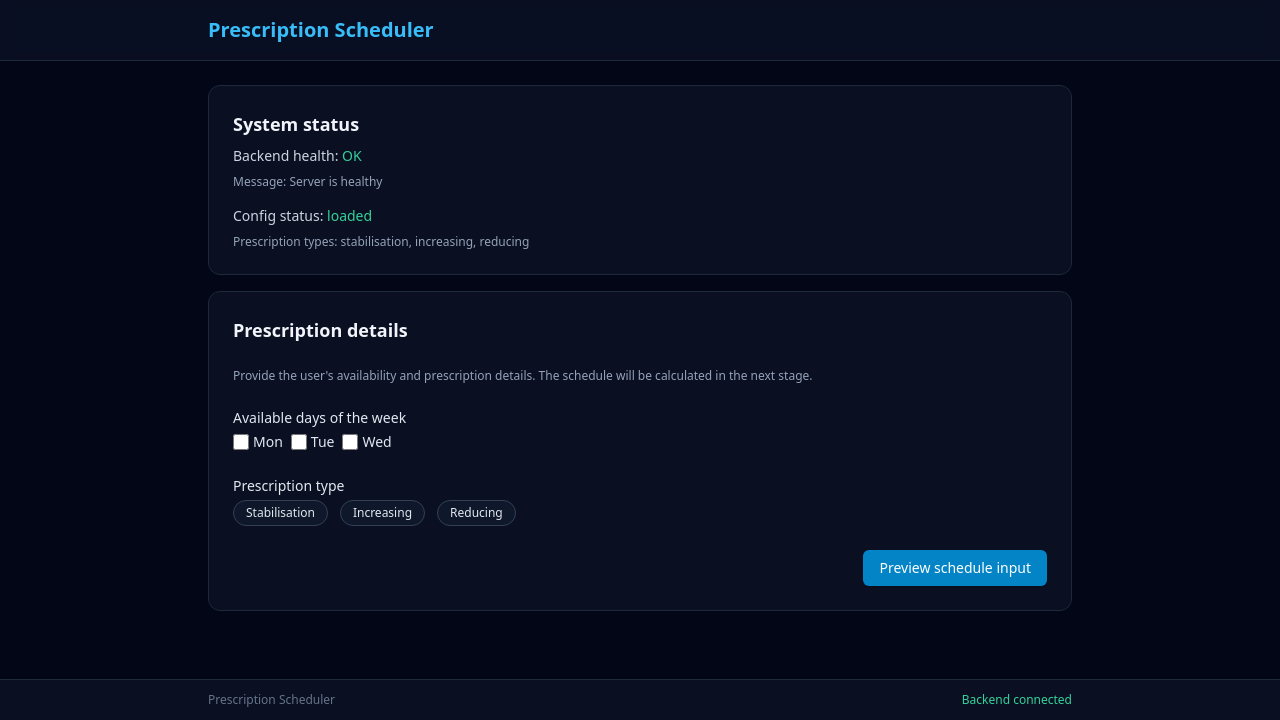
Scenario: Schedule flow › submits form and displays schedule table
The image size is (1280, 720).
Check: the heading "Prescription details" is shown, box [233,318,408,342]
# Select availability day
Click the checkbox labelled "Mon" at (241, 442), box [233,434,249,450]
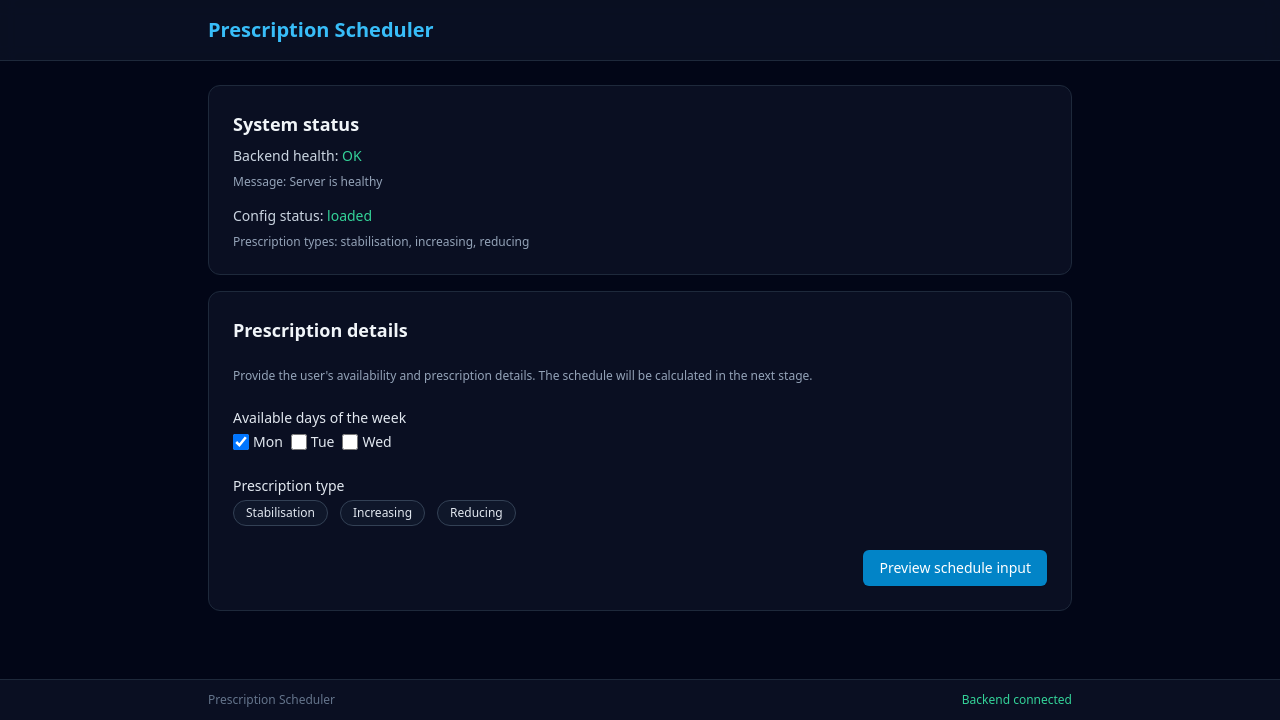
Click the button "Stabilisation" at (280, 513), box [233,500,328,526]
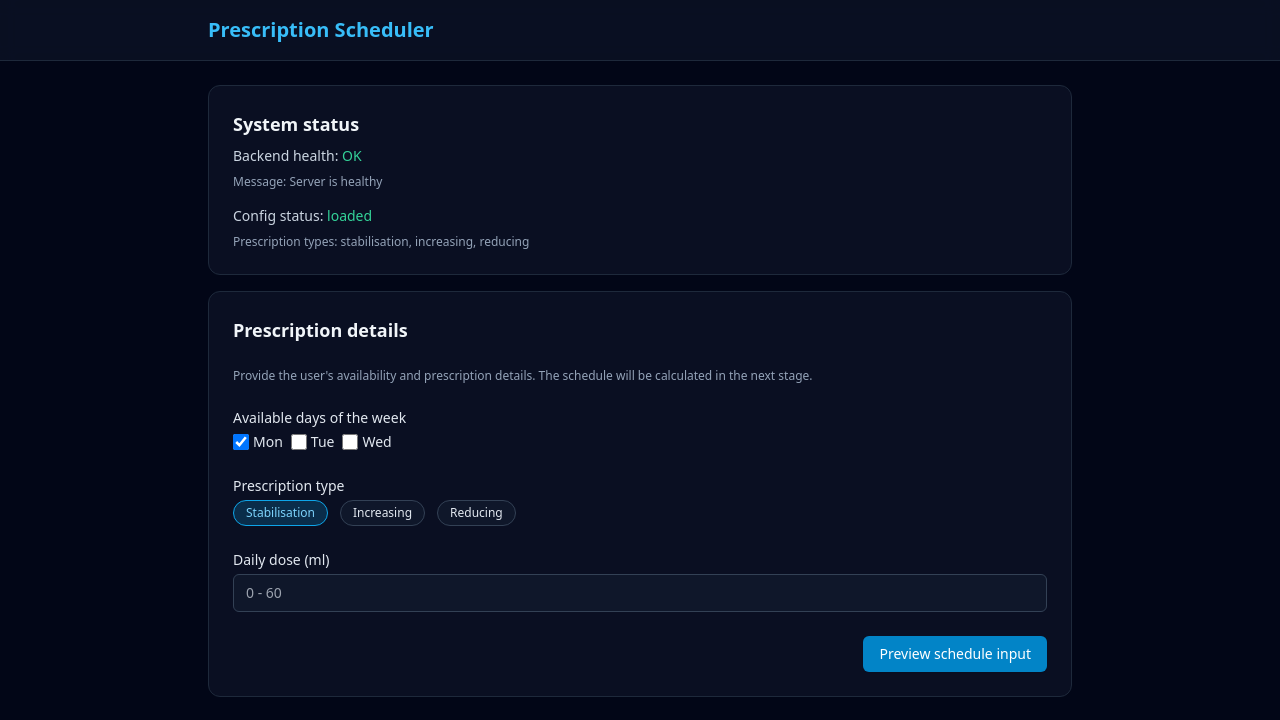
Type "20" into the number field with placeholder "0 - 60" at (640, 593), box [233,574,1047,612]
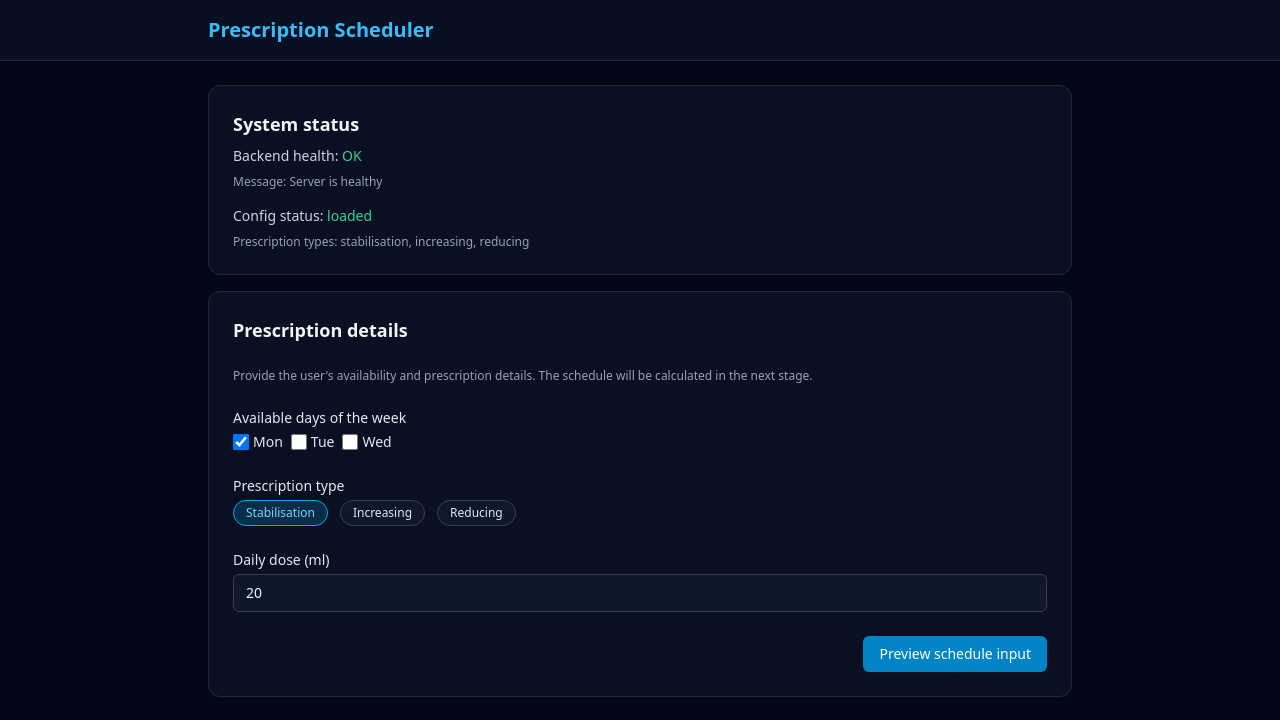
Click the button "Preview schedule input" at (955, 654), box [864,636,1047,672]
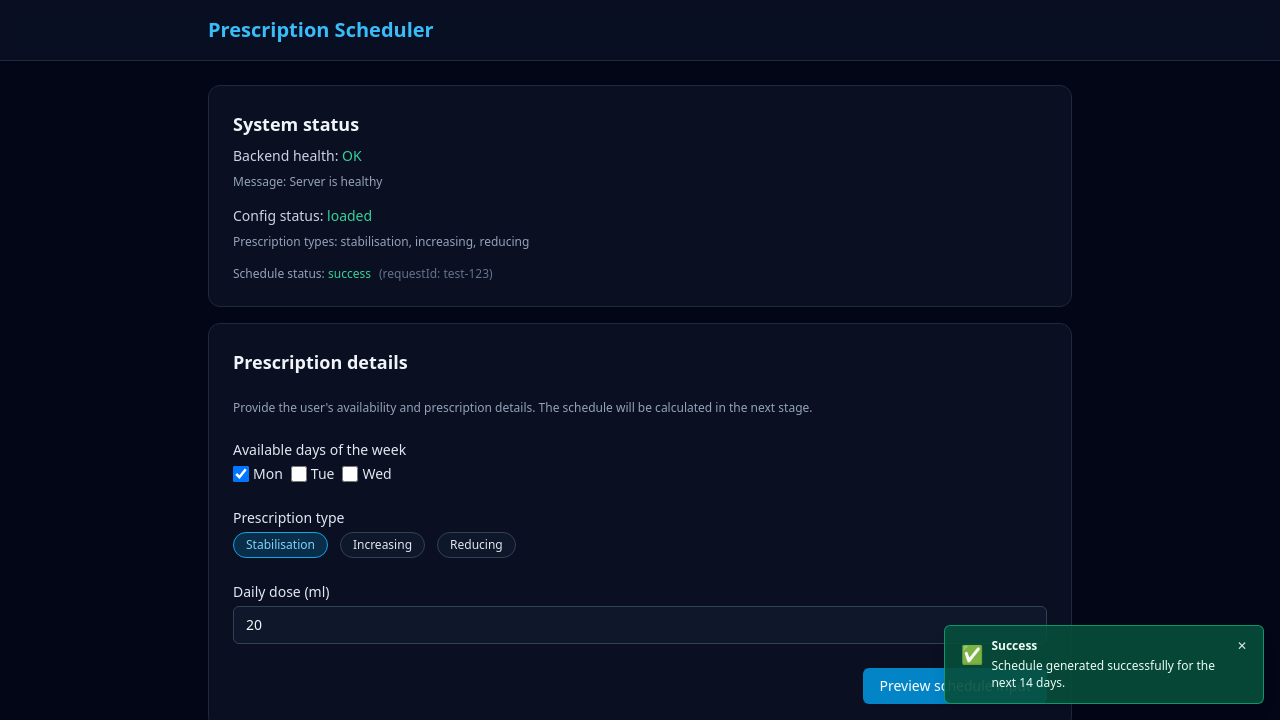
Check: the text "Schedule generated successfully for the next 14 days." is shown, box [992,658,1221,691]
